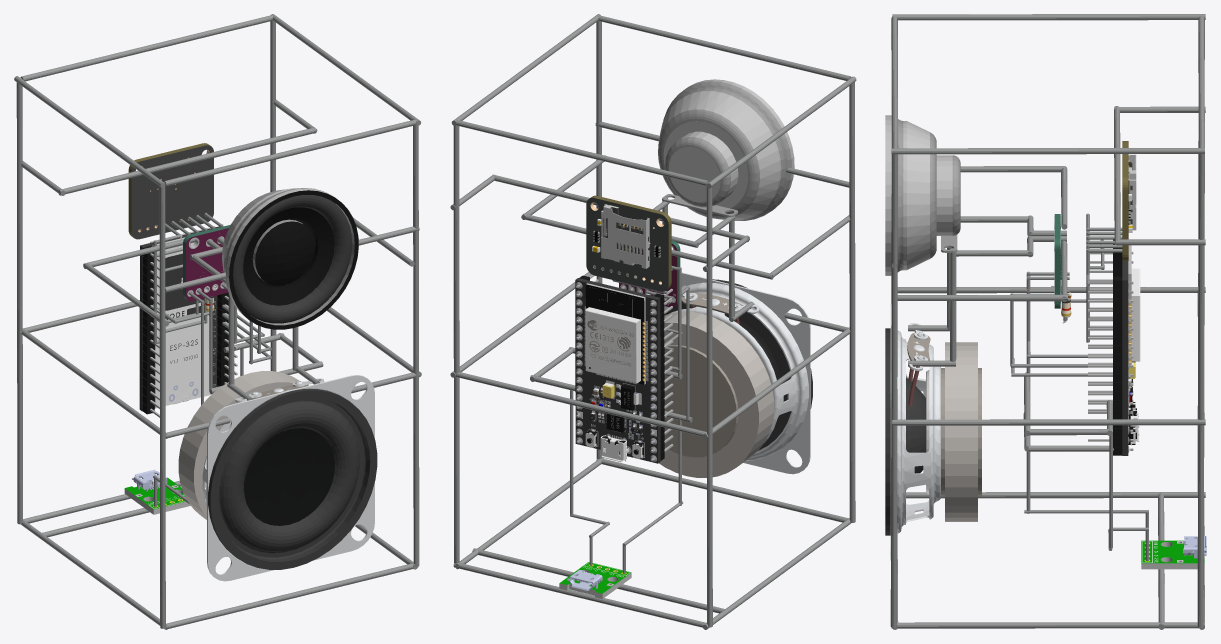
The picture shows the model from 3 angles, left to right: view 1: azimuth 30°, elevation 25°; view 2: azimuth 150°, elevation 25°; view 3: azimuth 270°, elevation 25°; orthographic projection. The views are drawn at different scales.
Parts seen in each view (by area): view 1: G-Object.022; view 2: G-Object.022; view 3: G-Object.022.
Boxes of the visible parts, bbox=[...] form: G-Object.022: bbox=[14, 14, 421, 629]; G-Object.022: bbox=[450, 14, 856, 629]; G-Object.022: bbox=[885, 14, 1206, 629].
Size of the model in its own units: 8.07 by 13.19 by 7.98.
